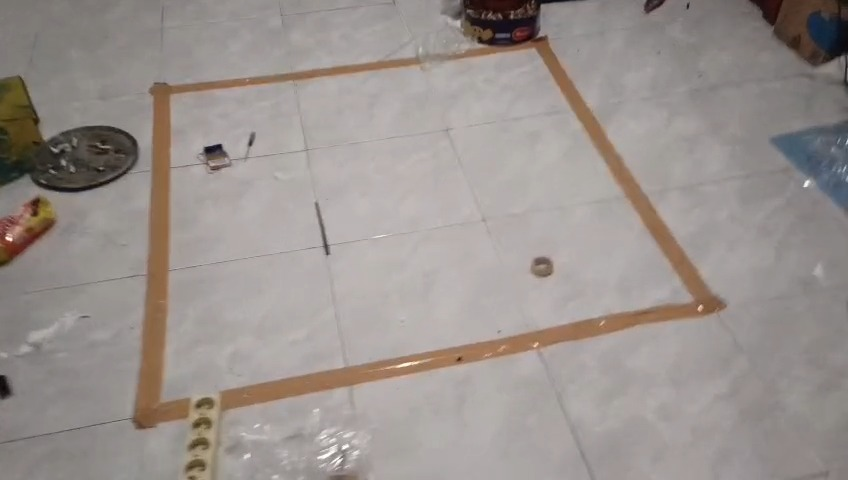floor marking: (221, 37, 725, 408), (133, 58, 420, 427)
